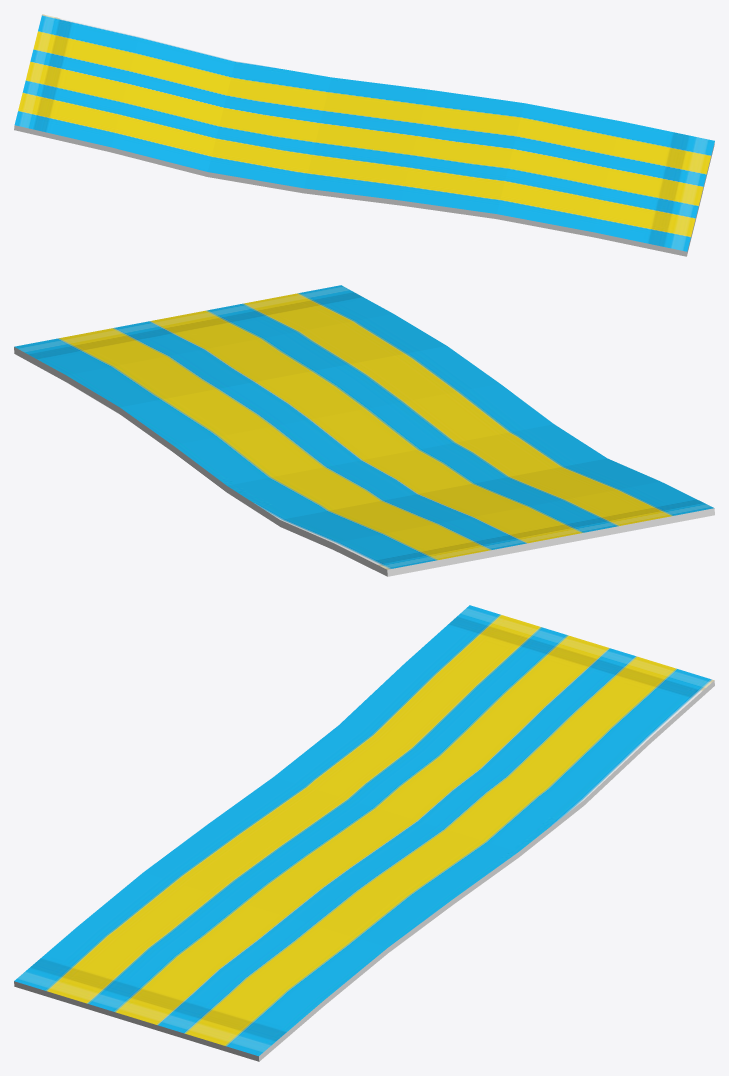
File: cube.015_lev3.glb
3 renders of one model, top to bottom at view 1: azimuth 30°, elevation 25°; view 2: azimuth 150°, elevation 25°; view 3: azimuth 270°, elevation 25°, orthographic. The views are drawn at different scales.
Parts seen in each view (by area): view 1: cube.015_lev3; view 2: cube.015_lev3; view 3: cube.015_lev3.
Part boxes in pixels (<box>): cube.015_lev3: <box>14,14,714,256</box>; cube.015_lev3: <box>14,285,714,576</box>; cube.015_lev3: <box>14,605,714,1061</box>.
Bounding box in the file's own units: 1.53 × 0.2438 × 1.33.
Materials: 1 (1 with a texture image).
